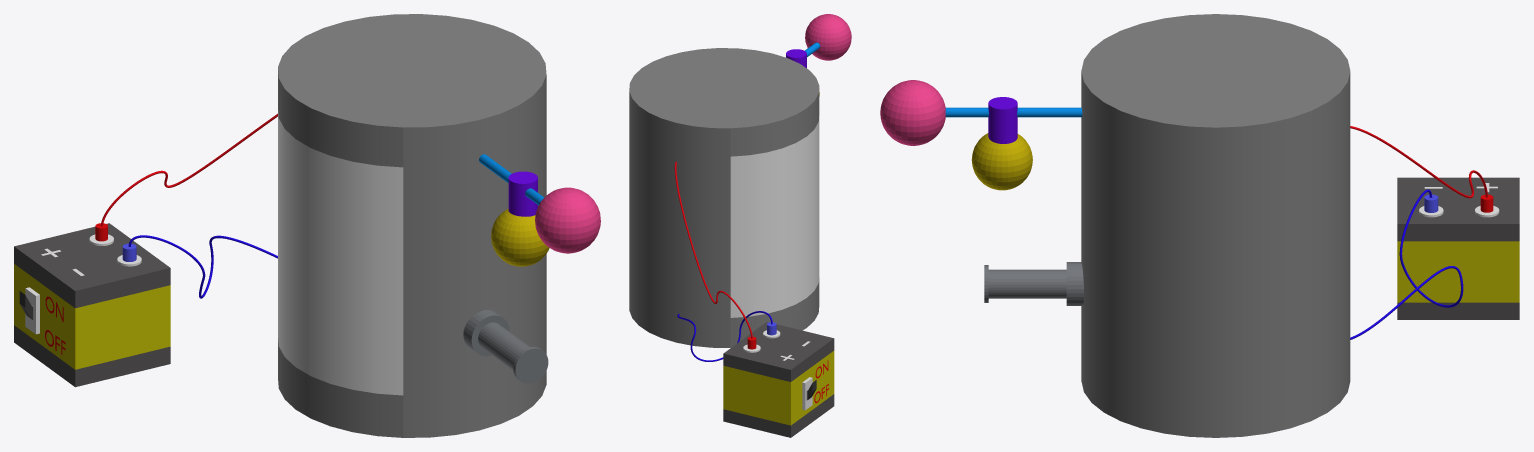
File: LABW 1.fbx
The picture shows the model from 3 angles, left to right: view 1: azimuth 30°, elevation 25°; view 2: azimuth 150°, elevation 25°; view 3: azimuth 270°, elevation 25°; orthographic projection. The views are drawn at different scales.
Visible parts, largest first — view 1: Cylinder, Cylinder.009, Cylinder.008, Cube, Cube.001, Sphere, Cylinder.007, Sphere.001, Cylinder.004, BézierCurve, BézierCurve.001, Cylinder.003; view 2: Cylinder, Cylinder.009, Cube, Cube.001, Cylinder.008, Sphere, BézierCurve.001, BézierCurve, Cylinder.004, Cube.002; view 3: Cylinder, Cube, Cube.001, Sphere, Cylinder.007, Sphere.001, Cylinder.004, Cylinder.003, BézierCurve, BézierCurve.001.
Part boxes in pixels (x1,y1,x2,y2): Cylinder: (278,14,546,437); Cylinder.009: (278,110,403,395); Cylinder.008: (278,70,403,437); Cube: (14,223,170,387); Cube.001: (14,264,170,369); Sphere: (535,187,600,253); Cylinder.007: (463,309,548,383); Sphere.001: (491,208,549,266); Cylinder.004: (508,171,537,216); BézierCurve: (128,235,277,298); BézierCurve.001: (100,113,277,226); Cylinder.003: (479,154,544,205); Cylinder: (629,48,819,347); Cylinder.009: (730,116,819,317); Cube: (723,322,834,437); Cube.001: (723,351,834,425); Cylinder.008: (730,88,819,347); Sphere: (805,14,851,60); BézierCurve.001: (674,161,752,338); BézierCurve: (677,311,772,361); Cylinder.004: (786,49,806,68); Cube.002: (802,377,812,410); Cylinder: (1081,14,1350,437); Cube: (1397,177,1519,319); Cube.001: (1397,241,1519,302); Sphere: (880,80,945,145); Cylinder.007: (984,262,1083,305); Sphere.001: (971,133,1032,190); Cylinder.004: (988,97,1017,143); Cylinder.003: (945,107,1082,117); BézierCurve: (1350,189,1463,339); BézierCurve.001: (1350,126,1487,198).
Bounding box in the file's own units: 354 × 291 × 523.
